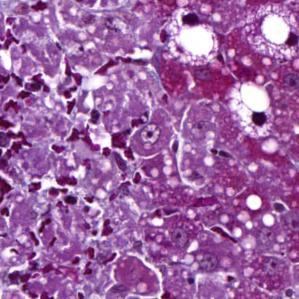ballooning: (159, 12, 221, 70), (227, 78, 278, 141), (239, 5, 296, 61)
